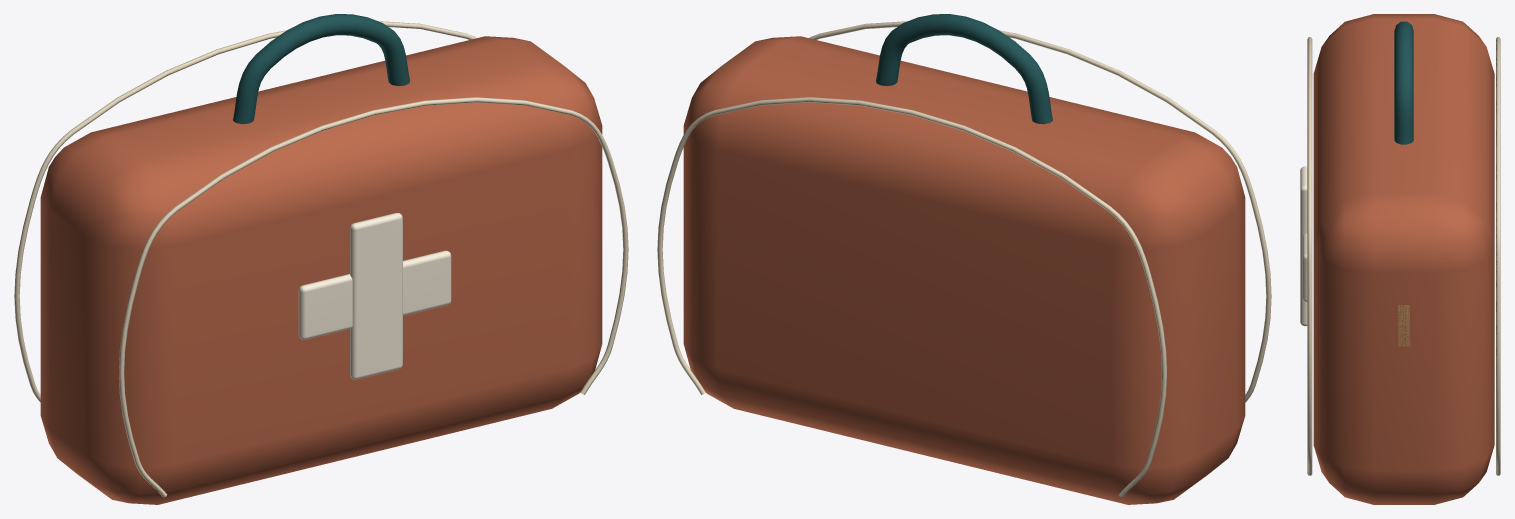
File: FirstAid.fbx
3 views of the same model, side by side, from view 1: azimuth 30°, elevation 25°; view 2: azimuth 150°, elevation 25°; view 3: azimuth 270°, elevation 25° (orthographic). The views are drawn at different scales.
Parts seen in each view (by area): view 1: Surface_KKTC_Terracotta, Surface_KKTC_WarmWhite, Surface_KKTC_Stitch, Surface_KKTC_CanvasDeep; view 2: Surface_KKTC_Terracotta, Surface_KKTC_Stitch, Surface_KKTC_CanvasDeep; view 3: Surface_KKTC_Terracotta, Surface_KKTC_Stitch, Surface_KKTC_CanvasDeep, Surface_KKTC_WarmWhite, Surface_KKTC_Brass.
Part boxes in pixels (x1=…): Surface_KKTC_Terracotta: x1=40, y1=36, x2=602, y2=504; Surface_KKTC_WarmWhite: x1=298, y1=213, x2=451, y2=379; Surface_KKTC_Stitch: x1=14, y1=21, x2=628, y2=497; Surface_KKTC_CanvasDeep: x1=233, y1=14, x2=409, y2=124; Surface_KKTC_Terracotta: x1=683, y1=36, x2=1245, y2=504; Surface_KKTC_Stitch: x1=657, y1=21, x2=1271, y2=497; Surface_KKTC_CanvasDeep: x1=876, y1=14, x2=1052, y2=124; Surface_KKTC_Terracotta: x1=1313, y1=14, x2=1494, y2=504; Surface_KKTC_Stitch: x1=1307, y1=37, x2=1500, y2=475; Surface_KKTC_CanvasDeep: x1=1394, y1=21, x2=1413, y2=144; Surface_KKTC_WarmWhite: x1=1300, y1=166, x2=1307, y2=326; Surface_KKTC_Brass: x1=1398, y1=305, x2=1409, y2=346.
Size of the model in its own units: 22 by 17.42 by 8.3.
